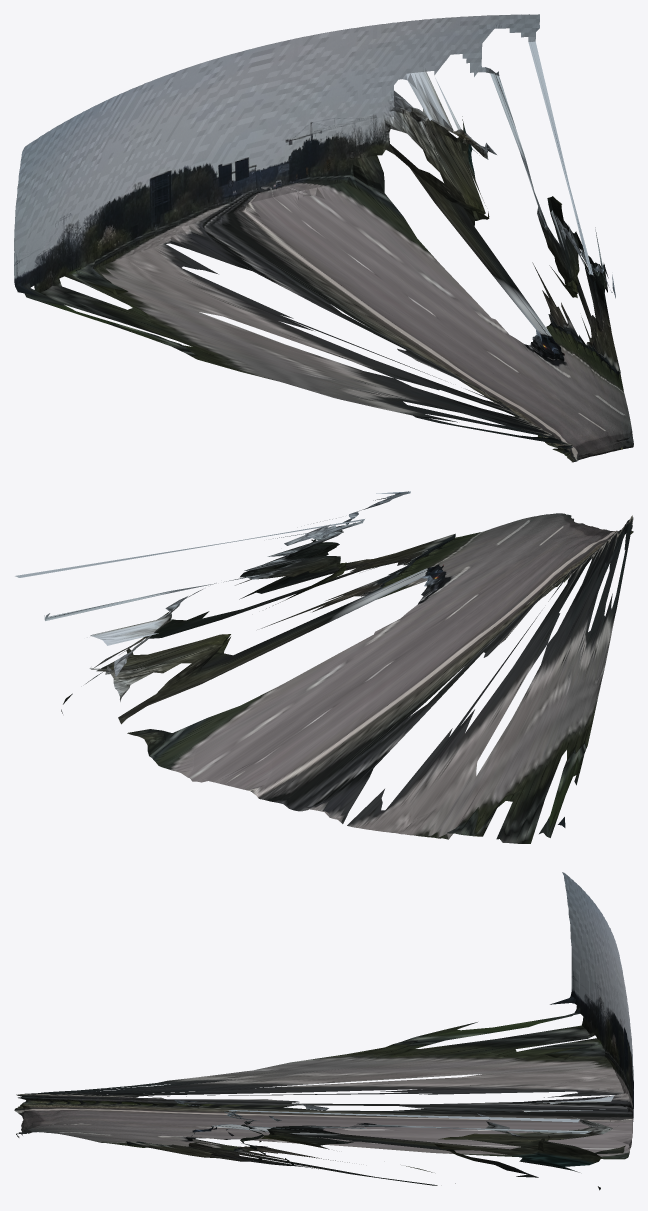
The picture shows the model from 3 angles, top to bottom: view 1: azimuth 30°, elevation 25°; view 2: azimuth 150°, elevation 25°; view 3: azimuth 270°, elevation 25°; orthographic projection. The views are drawn at different scales.
Parts seen in each view (by area): view 1: defaultobject; view 2: defaultobject; view 3: defaultobject.
Part boxes in pixels (x1=…): defaultobject: x1=14, y1=14, x2=633, y2=462; defaultobject: x1=15, y1=491, x2=633, y2=843; defaultobject: x1=14, y1=872, x2=633, y2=1190.
Size of the model in its own units: 39.17 by 12.69 by 44.75.
Materials: 1 (1 with a texture image).
